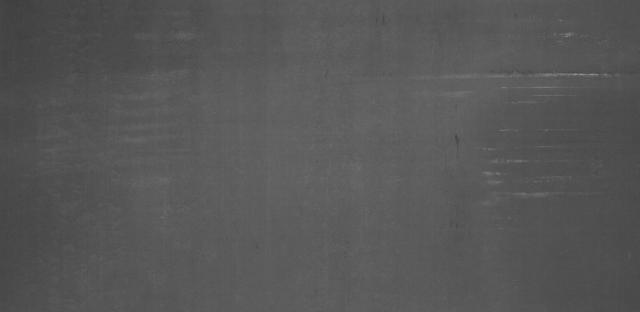waist_folding: (50, 38, 619, 266)
